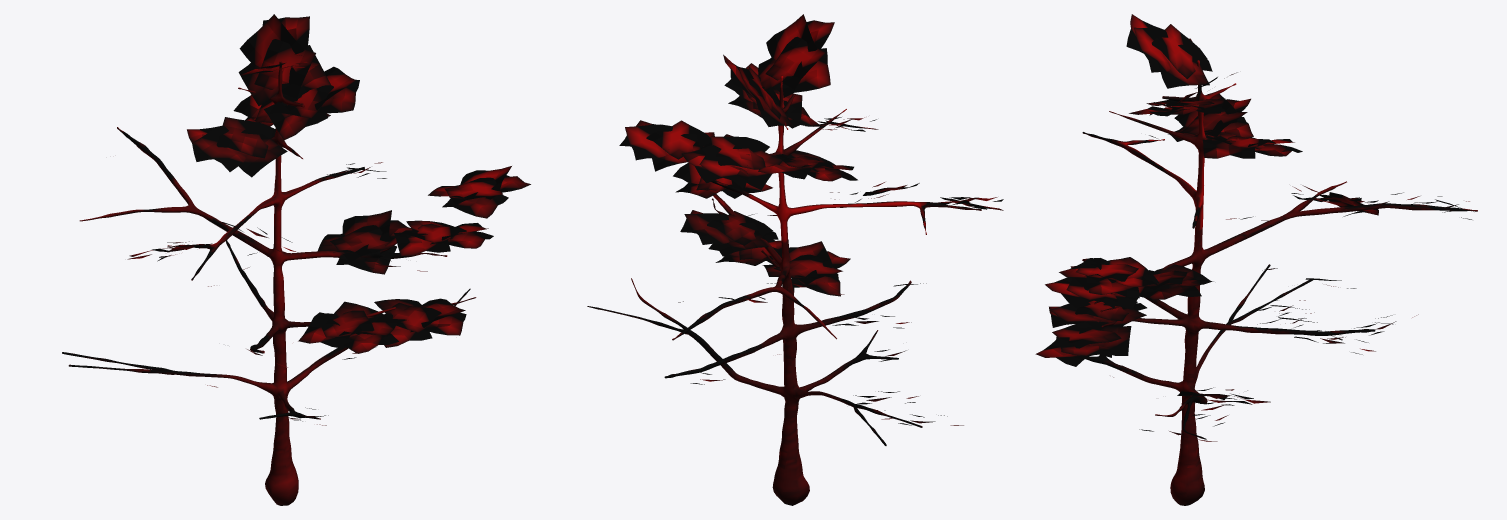
The model's file is tree_1.glb.
3 renders of one model, left to right at view 1: azimuth 30°, elevation 25°; view 2: azimuth 150°, elevation 25°; view 3: azimuth 270°, elevation 25°, orthographic. The views are drawn at different scales.
Parts seen in each view (by area): view 1: Tree, LeavesGroup.174, LeavesGroup.169, LeavesGroup.172, LeavesGroup.014, LeavesGroup.009, LeavesGroup.167, LeavesGroup.004, LeavesGroup.183, LeavesGroup.184, LeavesGroup.165, LeavesGroup.024 (+14 smaller); view 2: Tree, LeavesGroup.179, LeavesGroup.164, LeavesGroup.024, LeavesGroup.014, LeavesGroup.022, LeavesGroup.177, LeavesGroup.009, LeavesGroup.178, LeavesGroup.012, LeavesGroup.162, LeavesGroup.160 (+8 smaller); view 3: Tree, LeavesGroup.179, LeavesGroup.177, LeavesGroup.004, LeavesGroup.024, LeavesGroup.175, LeavesGroup.169, LeavesGroup.163, LeavesGroup, LeavesGroup.021, LeavesGroup.009, LeavesGroup.007 (+7 smaller).
Part boxes in pixels (x1,y1,x2,y2): Tree: (62, 61, 476, 505); LeavesGroup.174: (254, 39, 315, 98); LeavesGroup.169: (216, 117, 273, 158); LeavesGroup.172: (239, 14, 304, 67); LeavesGroup.014: (330, 225, 394, 262); LeavesGroup.009: (315, 310, 374, 337); LeavesGroup.167: (193, 126, 245, 171); LeavesGroup.004: (375, 302, 441, 332); LeavesGroup.183: (264, 104, 328, 140); LeavesGroup.184: (270, 85, 333, 118); LeavesGroup.165: (235, 126, 287, 177); LeavesGroup.024: (444, 177, 502, 204); Tree: (587, 75, 981, 505); LeavesGroup.179: (765, 36, 825, 89); LeavesGroup.164: (710, 136, 765, 169); LeavesGroup.024: (646, 120, 711, 159); LeavesGroup.014: (707, 211, 773, 245); LeavesGroup.022: (625, 124, 672, 160); LeavesGroup.177: (766, 14, 817, 59); LeavesGroup.009: (774, 254, 842, 284); LeavesGroup.178: (779, 48, 830, 97); LeavesGroup.012: (684, 213, 729, 244); LeavesGroup.162: (699, 145, 749, 187); LeavesGroup.160: (733, 141, 782, 189); Tree: (1082, 60, 1477, 505); LeavesGroup.179: (1151, 24, 1207, 78); LeavesGroup.177: (1134, 27, 1170, 72); LeavesGroup.004: (1052, 321, 1121, 348); LeavesGroup.024: (1076, 258, 1138, 281); LeavesGroup.175: (1160, 44, 1209, 88); LeavesGroup.169: (1180, 108, 1247, 136); LeavesGroup.163: (1202, 139, 1255, 158); LeavesGroup: (1079, 326, 1131, 356); LeavesGroup.021: (1086, 275, 1139, 298); LeavesGroup.009: (1075, 300, 1137, 321); LeavesGroup.007: (1050, 302, 1102, 328).
Bounding box in the file's own units: 19.58 × 20.87 × 17.89.
